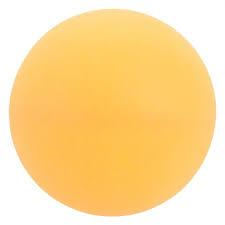oball: (5, 5, 221, 222)
